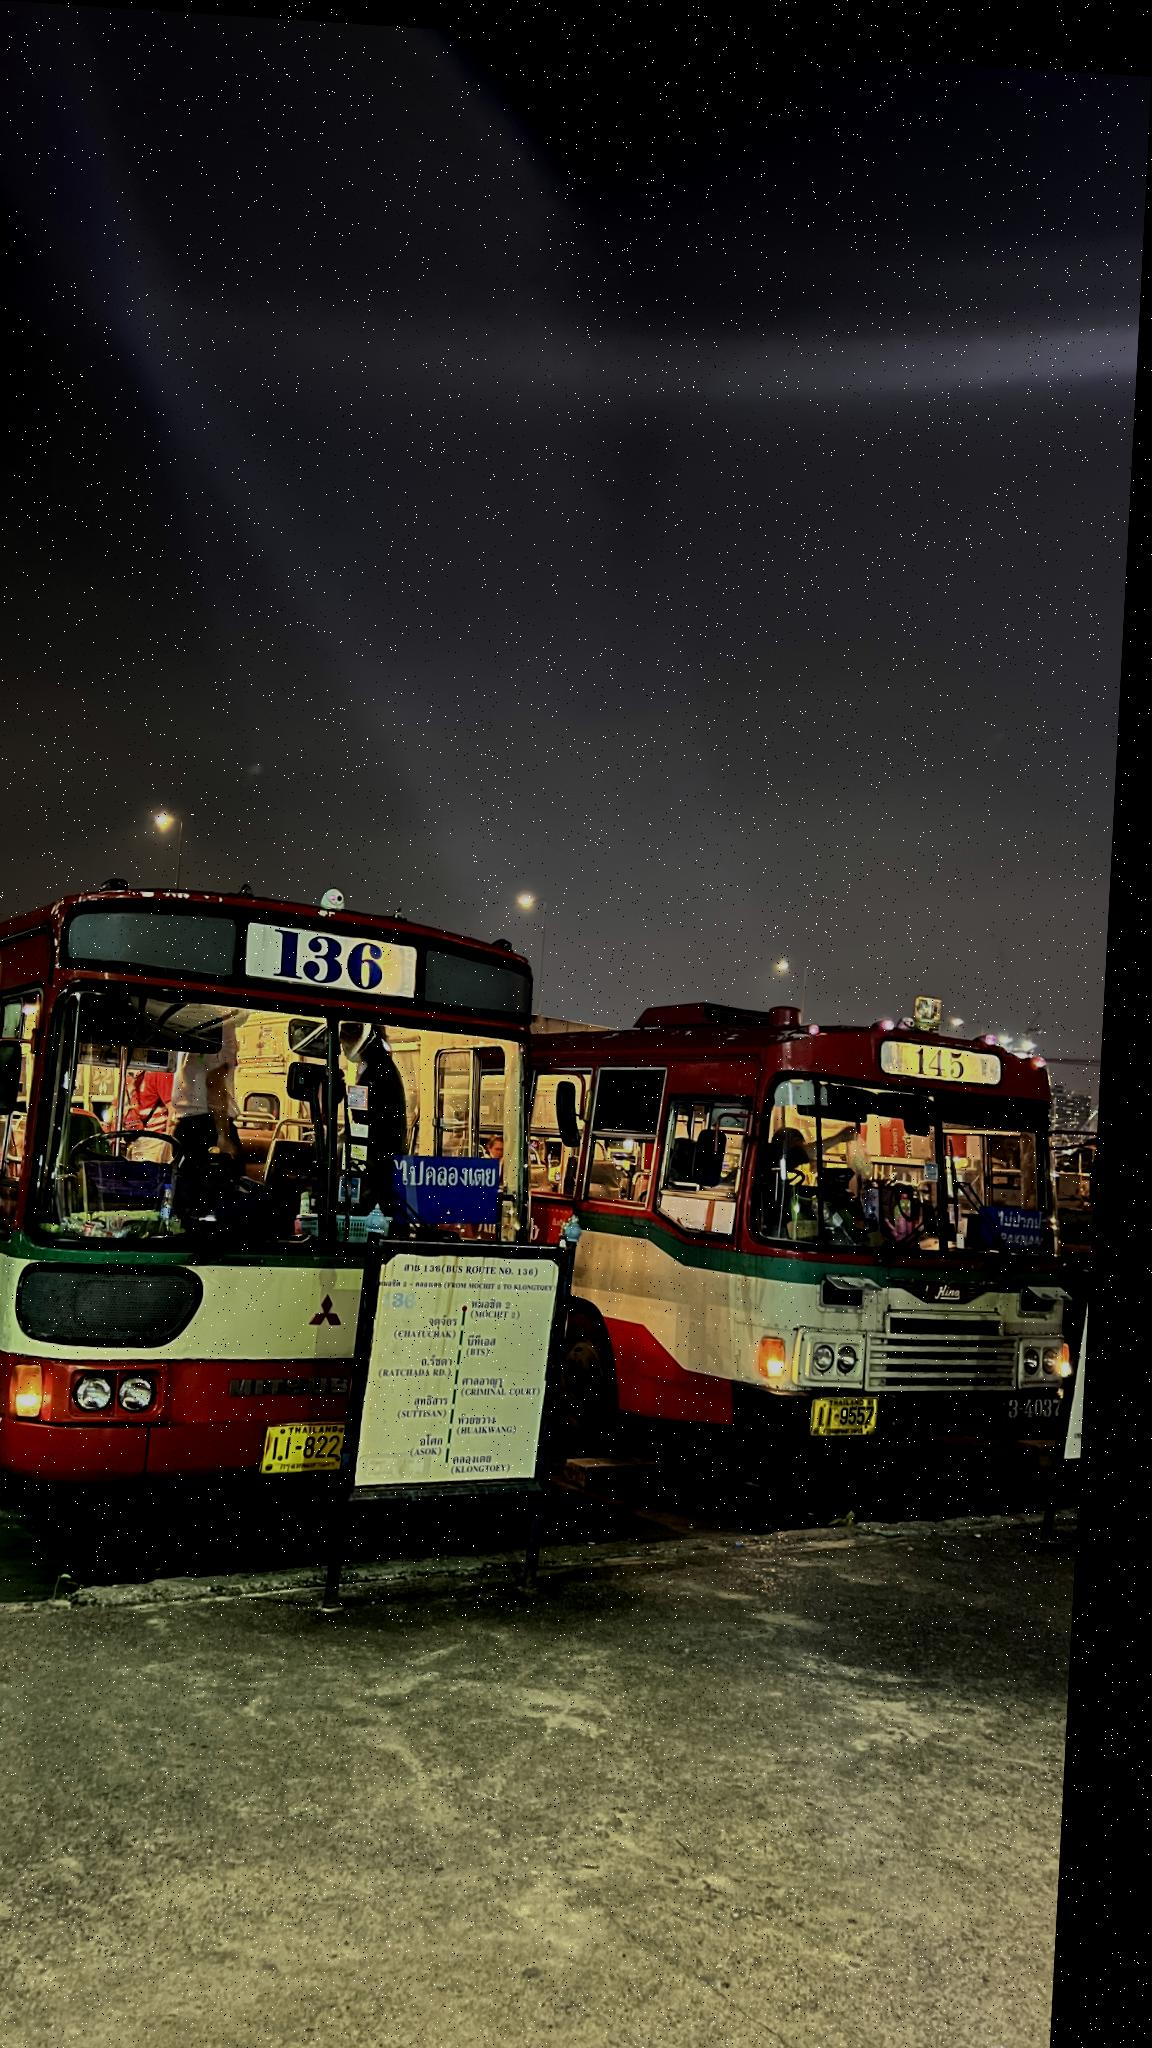BMTA-bus: (0, 883, 570, 1544), (544, 983, 1097, 1449)
Bus Line Number: (266, 911, 412, 993), (917, 1024, 983, 1073), (1016, 1370, 1082, 1415)
Destination Sign: (402, 1139, 513, 1218), (985, 1184, 1069, 1235)
